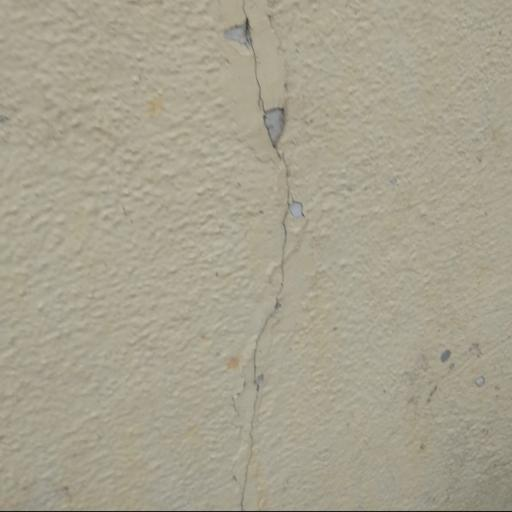minor_crack: (214, 0, 316, 512)
